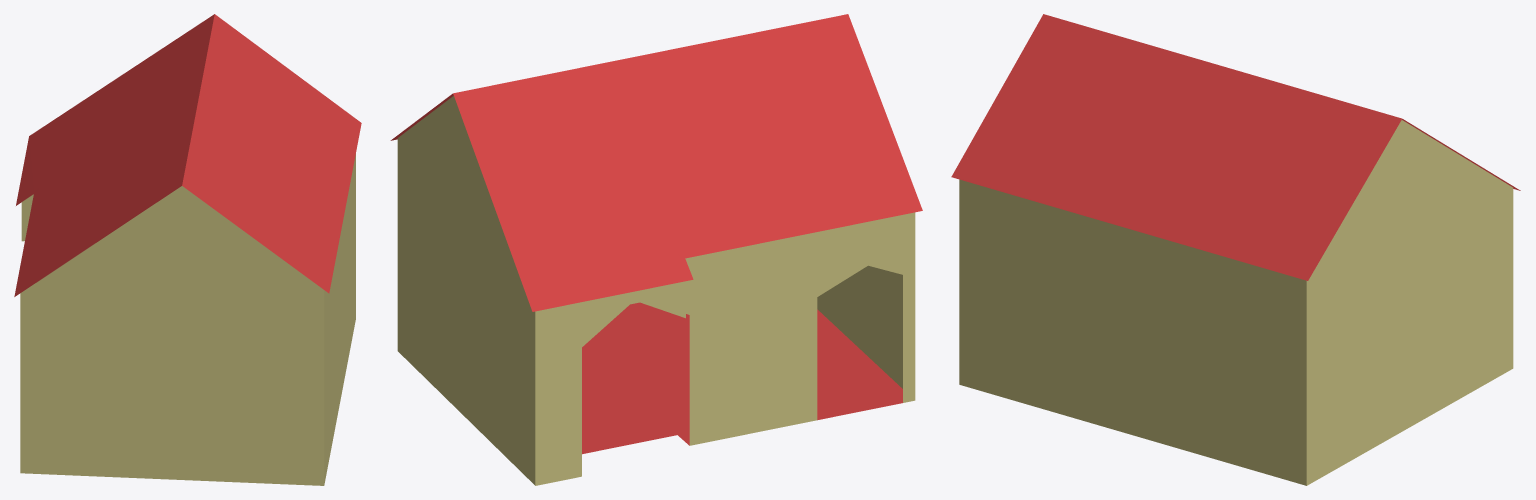
The picture shows the model from 3 angles, left to right: view 1: azimuth 30°, elevation 25°; view 2: azimuth 150°, elevation 25°; view 3: azimuth 270°, elevation 25°; orthographic projection. The views are drawn at different scales.
Bounding box in the file's own units: 22.32 × 24.43 × 14.99.
